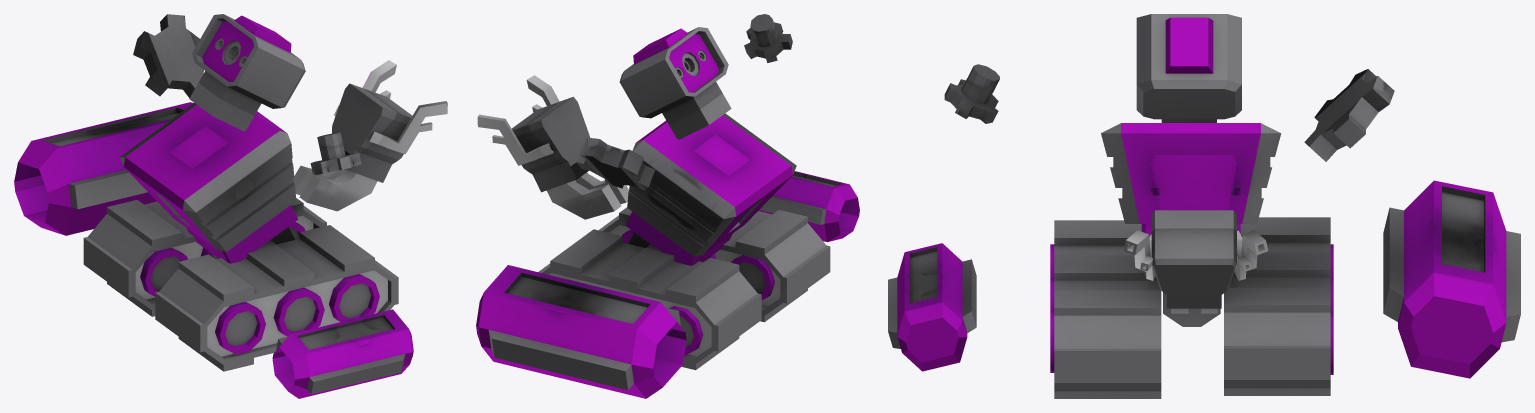
The model's file is Enemy2_Die17.obj.
The picture shows the model from 3 angles, left to right: view 1: azimuth 30°, elevation 25°; view 2: azimuth 150°, elevation 25°; view 3: azimuth 270°, elevation 25°; orthographic projection. The views are drawn at different scales.
Parts seen in each view (by area): view 1: Object006, Object013, Object011, Object010, Object012, Object014, Object009, Object008; view 2: Object006, Object011, Object013, Object010, Object012, Object014, Object009, Object008; view 3: Object006, Object011, Object013, Object012, Object010, Object014, Object009, Object008.
Part boxes in pixels (x1,y1,x2,y2): Object006: (83,198,398,371); Object013: (120,103,297,263); Object011: (14,102,193,235); Object010: (293,60,447,211); Object012: (189,14,305,131); Object014: (272,309,413,398); Object009: (133,14,203,97); Object008: (310,132,361,174); Object006: (538,207,830,370); Object011: (476,265,686,398); Object013: (625,113,796,265); Object010: (477,75,628,219); Object012: (619,27,731,139); Object014: (758,171,859,242); Object009: (576,137,655,190); Object008: (744,14,792,62); Object006: (1050,217,1333,398); Object011: (1383,180,1520,378); Object013: (1101,123,1281,326); Object012: (1136,14,1241,122); Object010: (1123,210,1268,313); Object014: (888,243,976,371); Object009: (1304,69,1394,161); Object008: (944,64,999,123).
Bounding box in the file's own units: 124 × 121 × 203.
